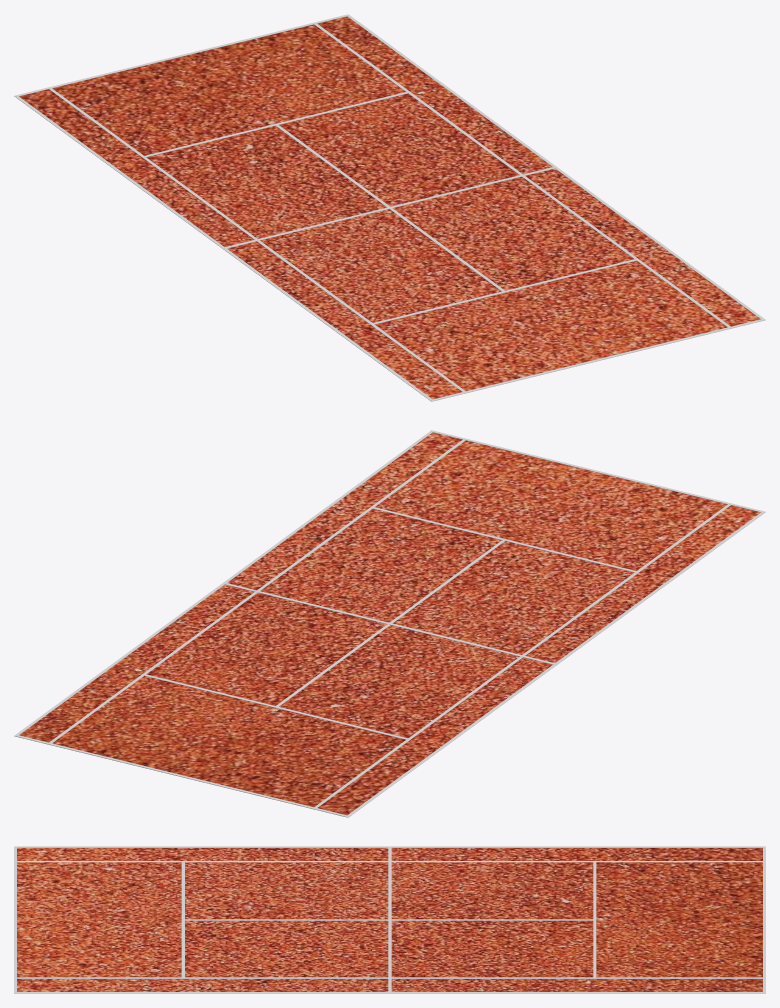
File: TennisCourt_kurei.fbx
3 renders of one model, top to bottom at view 1: azimuth 30°, elevation 25°; view 2: azimuth 150°, elevation 25°; view 3: azimuth 270°, elevation 25°, orthographic. The views are drawn at different scales.
Parts seen in each view (by area): view 1: group_pasted__pCube2; view 2: group_pasted__pCube2; view 3: group_pasted__pCube2.
Boxes of the visible parts, left/top/right/bottom form: group_pasted__pCube2: left=14, top=14, right=765, bottom=401; group_pasted__pCube2: left=14, top=430, right=765, bottom=817; group_pasted__pCube2: left=14, top=846, right=765, bottom=993.
Bounding box in the file's own units: 11.1 × 0.015 × 24.
9 materials, 1 textured.
